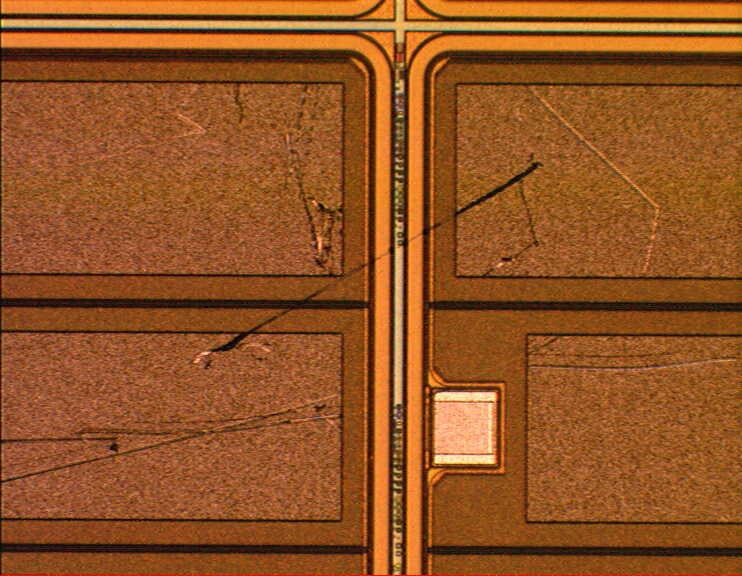SCRATCH: (1, 46, 742, 488)
